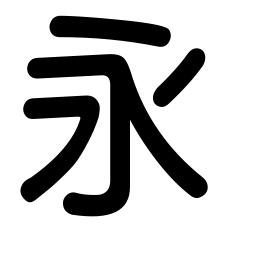D: (48, 13, 172, 43)
HSZ: (94, 51, 132, 88)
Hs: (24, 53, 90, 81)
Ne: (177, 165, 211, 200)
PNc: (130, 92, 167, 124)
PZe: (18, 170, 49, 204)
Ps: (180, 47, 212, 71)
SG: (61, 183, 131, 218)
Sm: (107, 130, 132, 167)
TPZ: (67, 94, 101, 135)
Ts: (22, 94, 51, 122)
